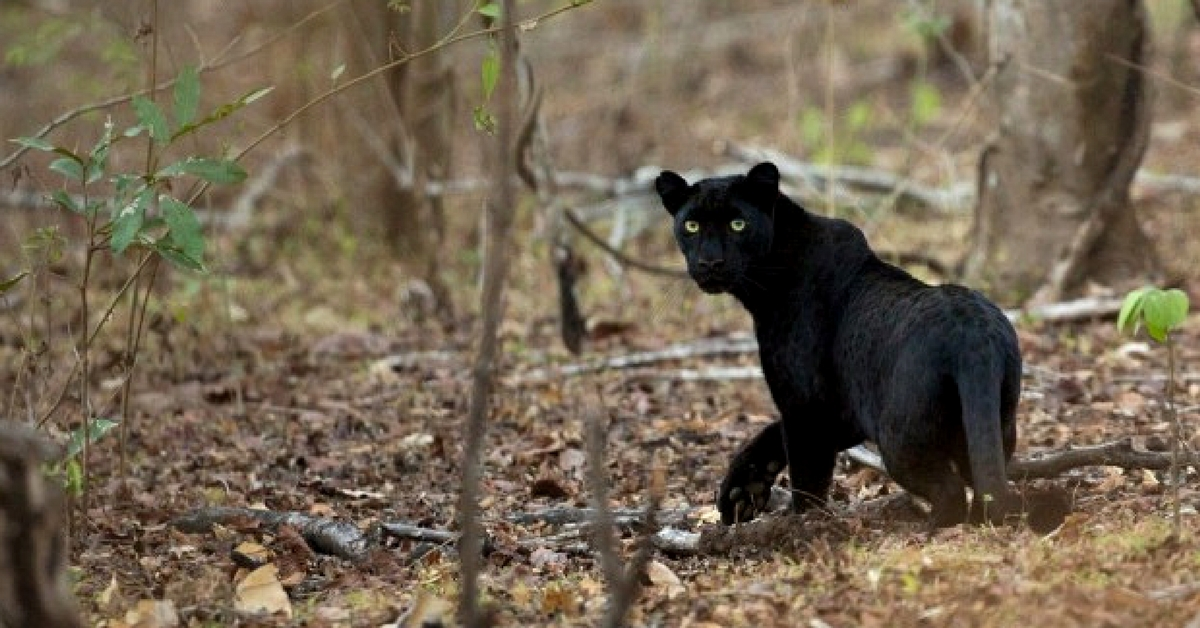panther: (649, 162, 1064, 545)
